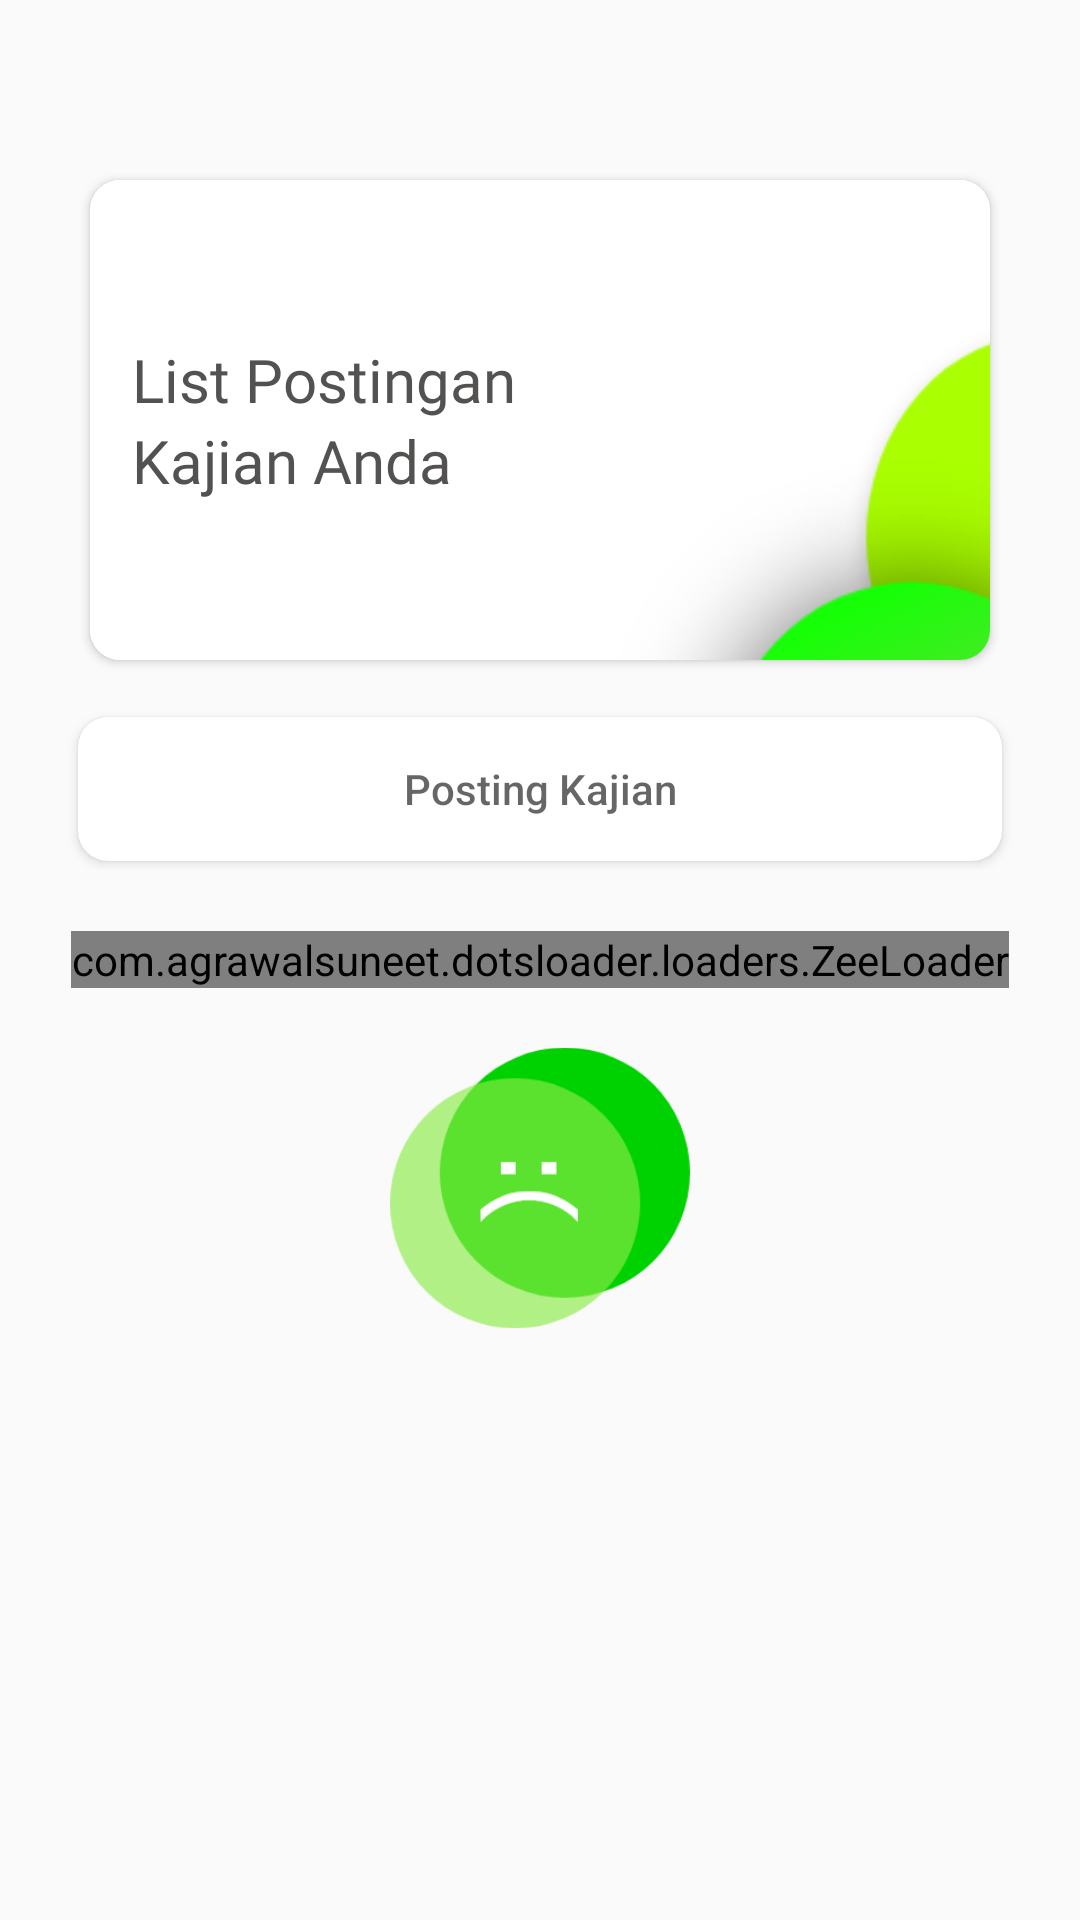

Icon click points for this 1080 x 1920 phone screenshot, format point (x, y):
onfail: point (540, 1188)
